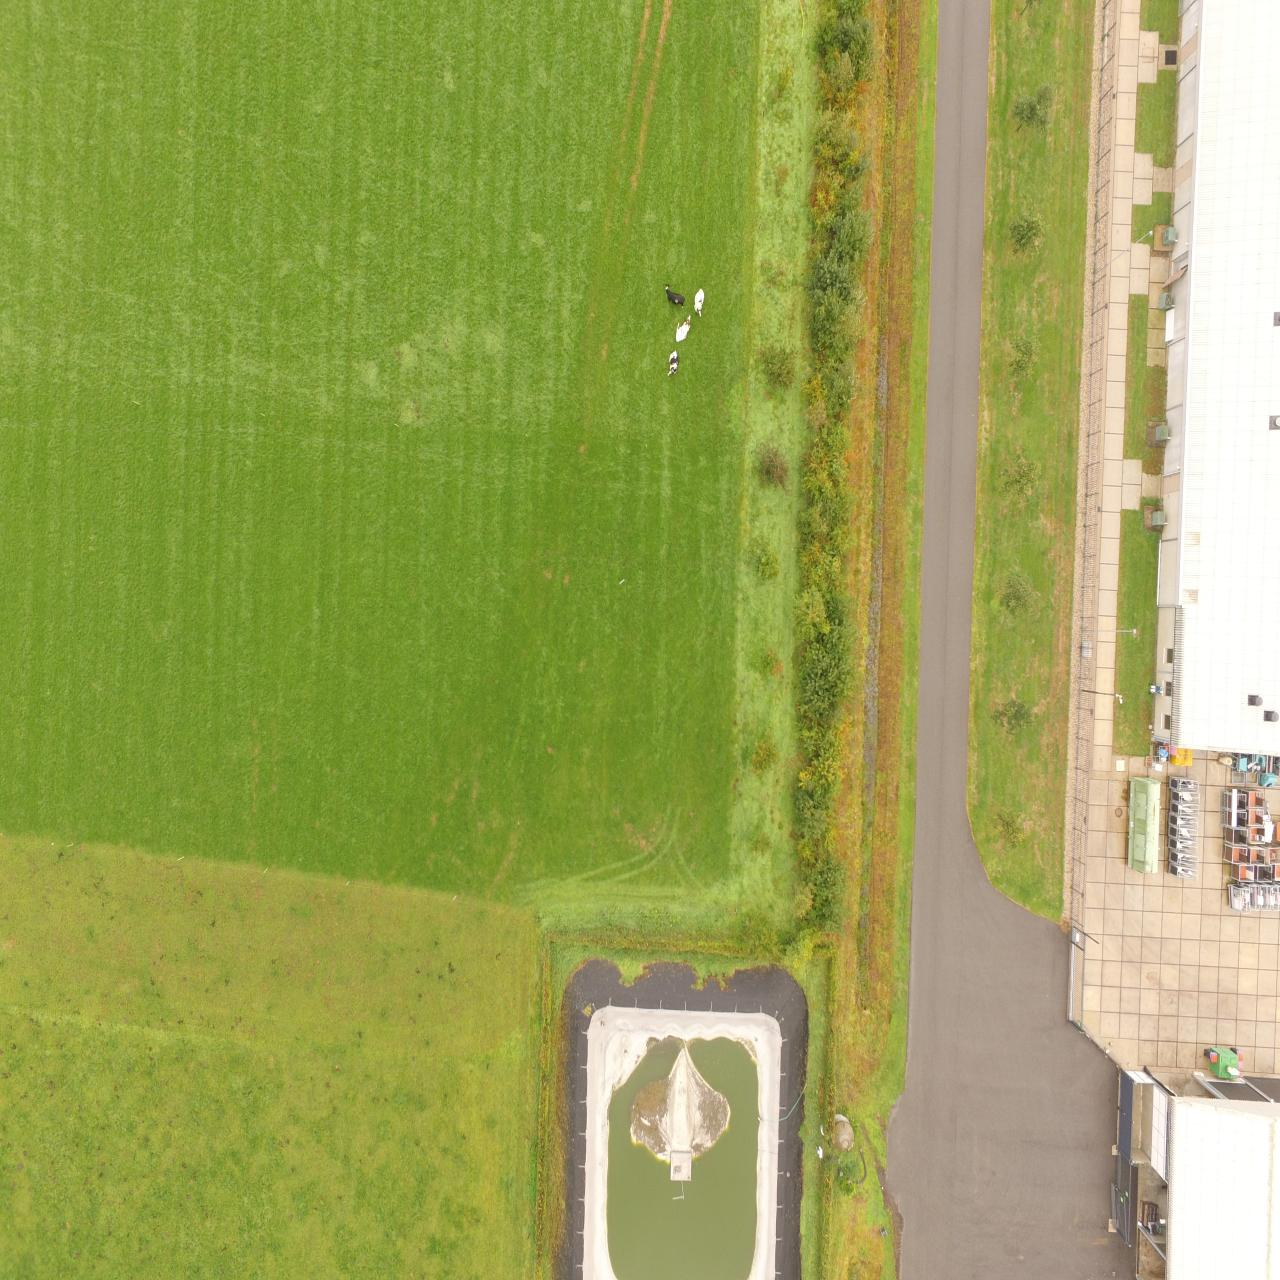cow: (665, 284, 685, 308), (675, 315, 691, 342), (694, 288, 704, 316), (667, 351, 678, 376)
